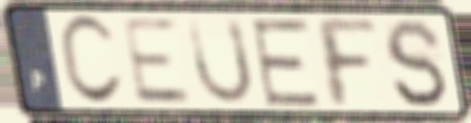C: (55, 11, 127, 109)
E: (118, 15, 195, 107), (248, 16, 324, 108)
F: (309, 14, 382, 111)
S: (381, 16, 451, 111)
U: (184, 15, 257, 108)
